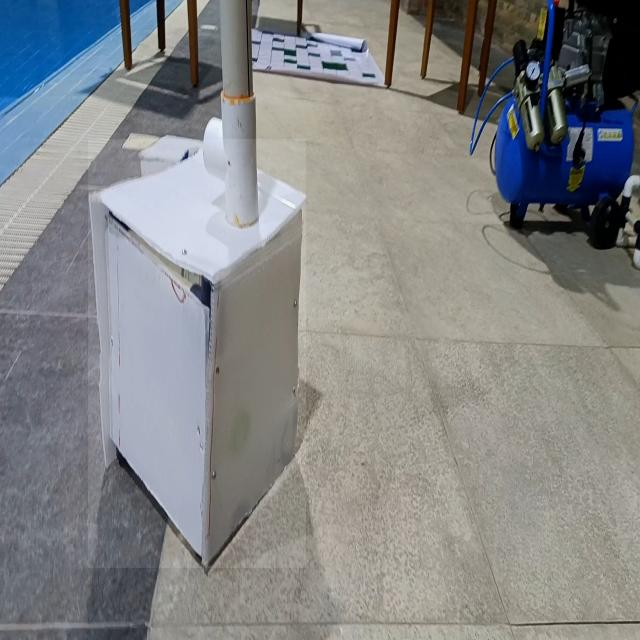Cube: (88, 139, 306, 568)
